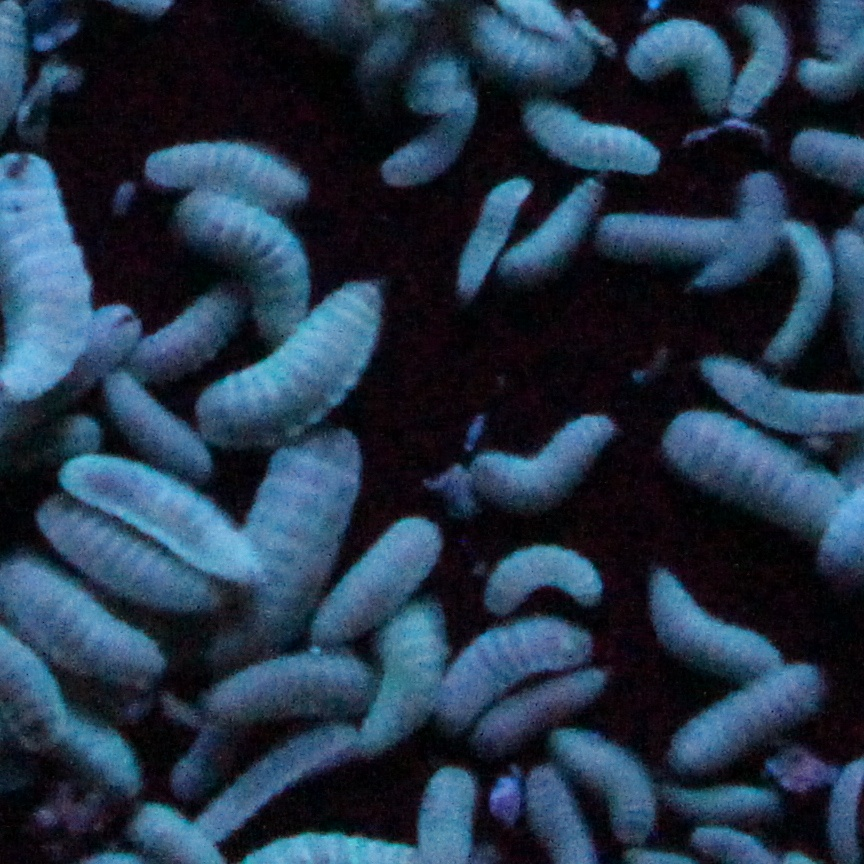larve: (205, 433, 360, 666), (196, 280, 389, 439), (60, 461, 270, 590), (27, 501, 229, 609), (658, 416, 843, 530), (184, 183, 315, 337), (443, 620, 593, 728), (310, 518, 434, 644), (670, 668, 832, 763), (646, 568, 787, 672), (467, 416, 622, 508), (522, 92, 665, 187), (553, 728, 667, 840), (136, 133, 310, 206), (201, 647, 375, 715), (500, 175, 607, 282), (104, 363, 210, 471), (627, 13, 727, 113), (689, 173, 782, 280), (451, 180, 539, 292), (479, 675, 613, 745), (379, 95, 477, 187), (481, 549, 607, 618), (735, 3, 779, 114)
